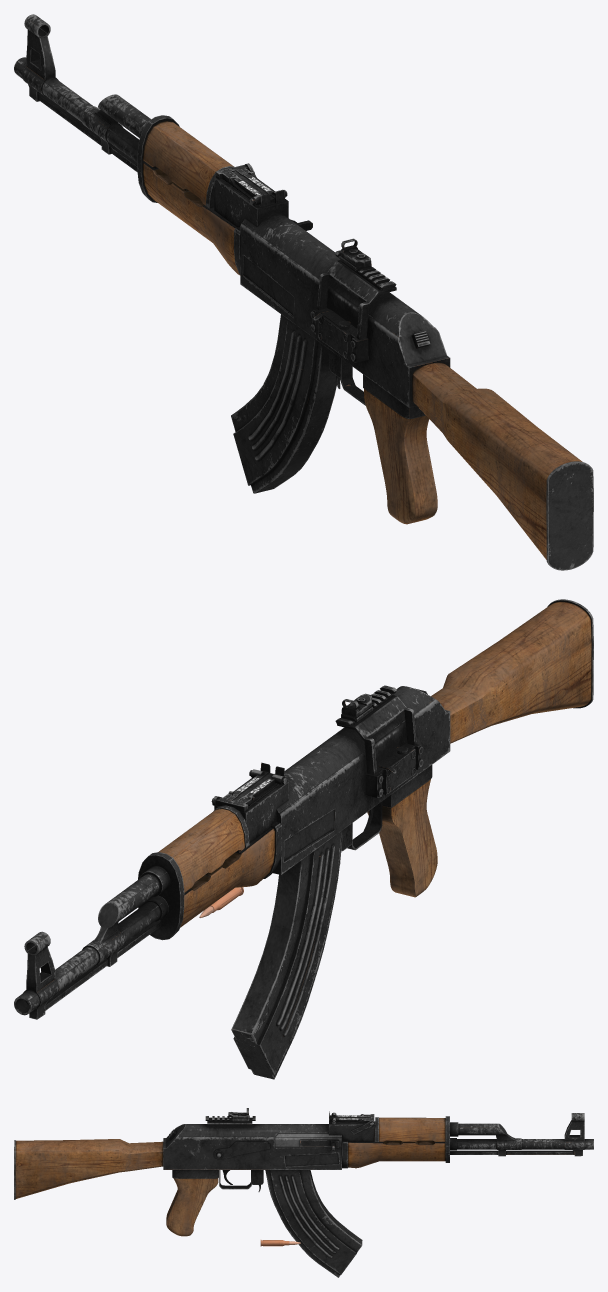
File: ak47_akm.glb
The picture shows the model from 3 angles, top to bottom: view 1: azimuth 30°, elevation 25°; view 2: azimuth 150°, elevation 25°; view 3: azimuth 270°, elevation 25°; orthographic projection. The views are drawn at different scales.
Parts seen in each view (by area): view 1: Ak, Magazine, Ak.001; view 2: Ak, Magazine, Ak.001; view 3: Ak, Magazine, Ak.001.
Boxes of the visible parts, x1,y1,x2,y2 form: Ak: [14, 14, 593, 570]; Magazine: [231, 314, 336, 493]; Ak.001: [310, 238, 396, 362]; Ak: [14, 599, 593, 1019]; Magazine: [231, 830, 342, 1079]; Ak.001: [335, 685, 423, 797]; Ak: [14, 1111, 593, 1236]; Magazine: [265, 1170, 362, 1277]; Ak.001: [205, 1108, 255, 1124].
Size of the model in its own units: 220 by 452 by 1432.
1 material, 1 textured.
